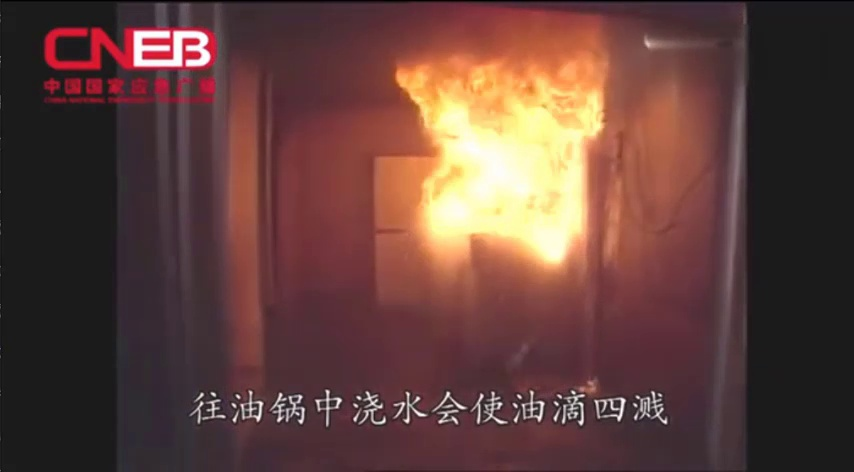fire: (382, 7, 620, 281)
